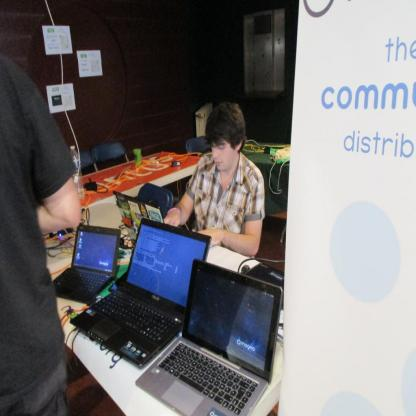board: (136, 259, 284, 415), (70, 215, 211, 371), (51, 222, 120, 305), (70, 145, 84, 200)
